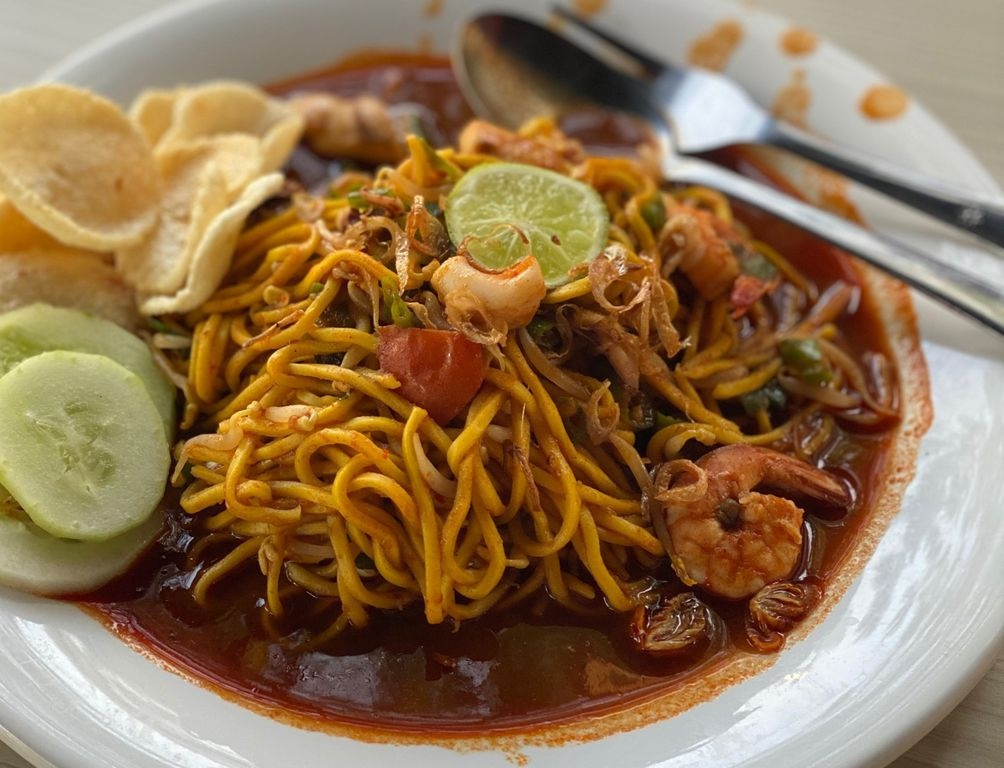mie_aceh: (183, 121, 890, 718)
